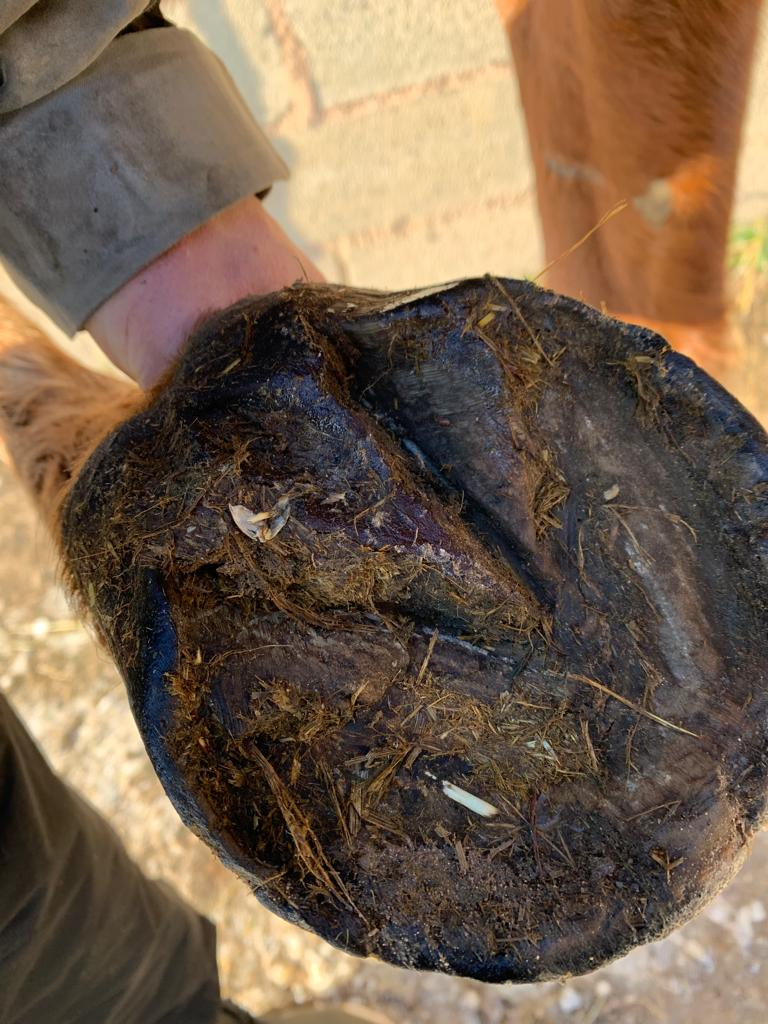horsesole: (140, 277, 768, 987)
